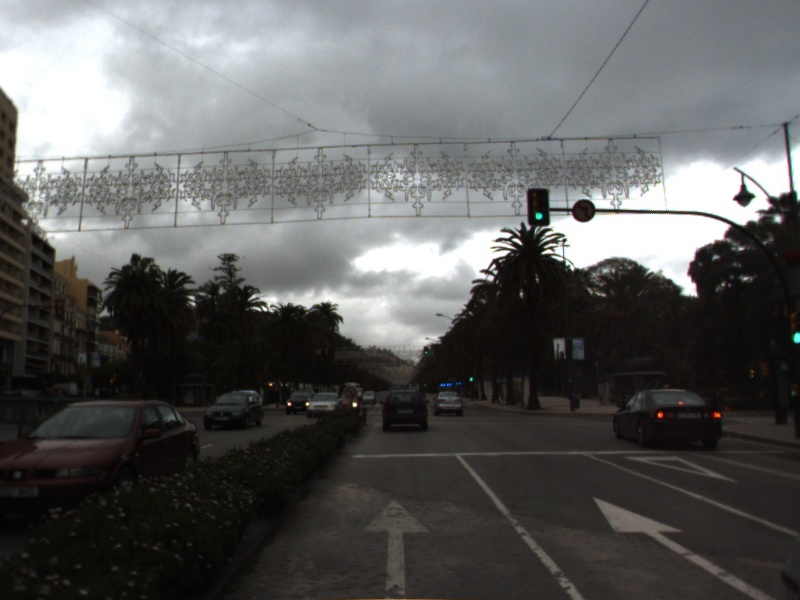STRAIGHT: (590, 493, 778, 600), (358, 495, 434, 600)
